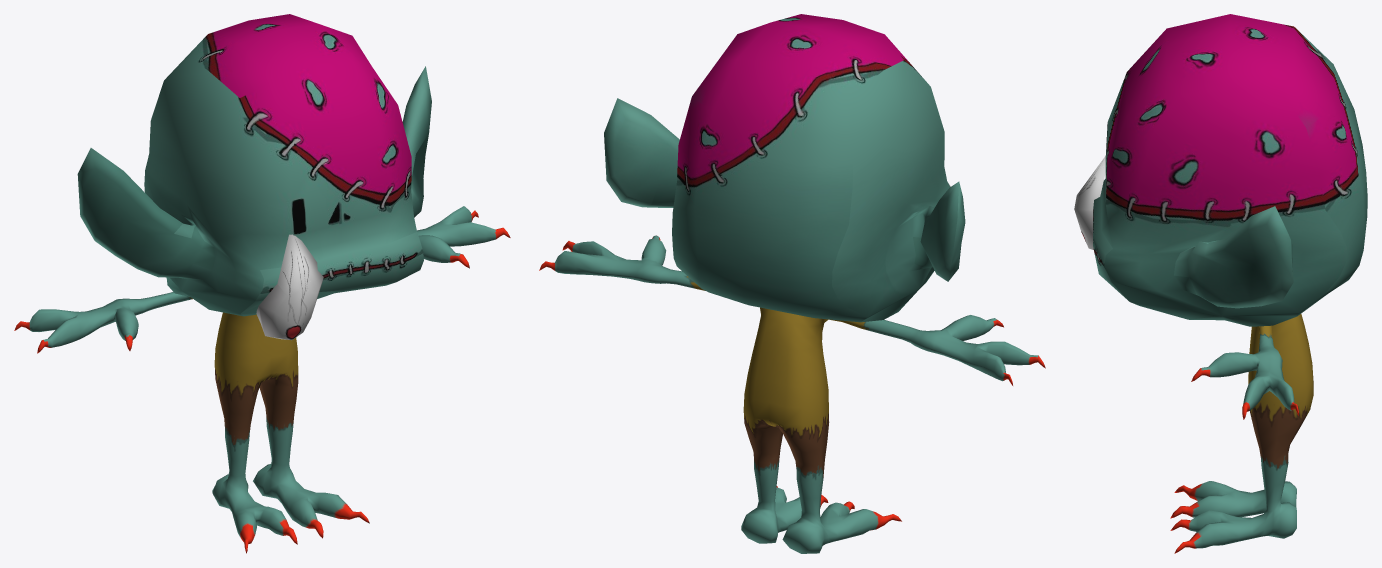
Rendered from enemy03.FBX.
3 renders of one model, left to right at view 1: azimuth 30°, elevation 25°; view 2: azimuth 150°, elevation 25°; view 3: azimuth 270°, elevation 25°, orthographic. The views are drawn at different scales.
Visible parts, largest first — view 1: ##head, ##body; view 2: ##head, ##body; view 3: ##head, ##body.
Boxes of the visible parts, x1,y1,x2,y2 form: ##head: (77, 14, 431, 340); ##body: (14, 206, 510, 553); ##head: (604, 14, 965, 322); ##body: (539, 235, 1045, 553); ##head: (1074, 14, 1367, 326); ##body: (1170, 314, 1313, 553).
Size of the model in its own units: 2934 by 2904 by 1557.
Materials: 2 (2 with a texture image).
